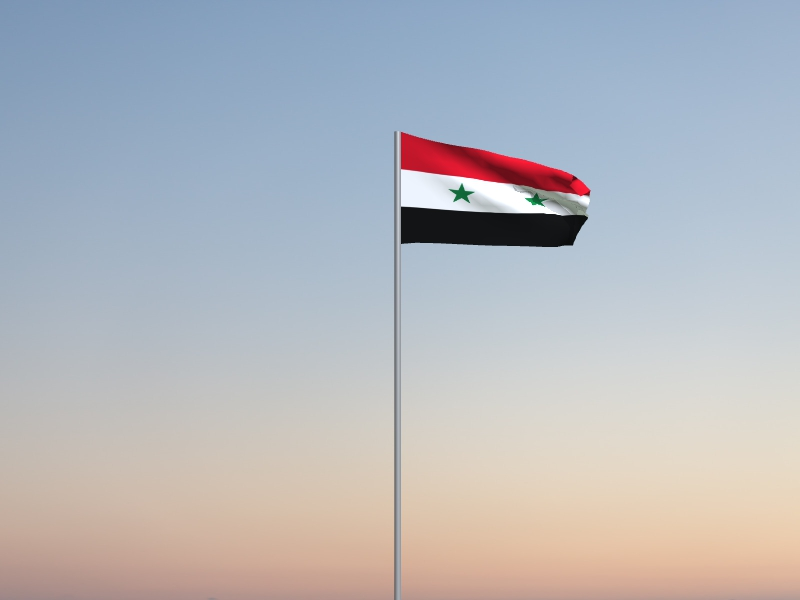sy: (402, 134, 593, 249)
